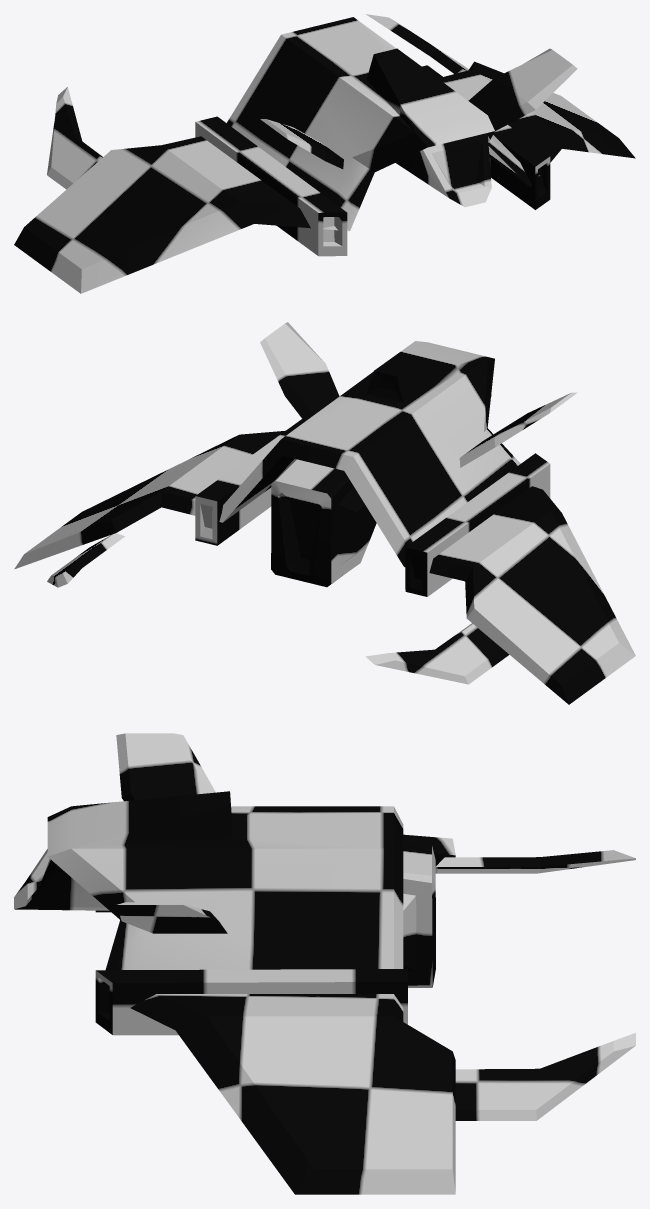
Rendered from cyborg_drone.obj.
The picture shows the model from 3 angles, top to bottom: view 1: azimuth 30°, elevation 25°; view 2: azimuth 150°, elevation 25°; view 3: azimuth 270°, elevation 25°; orthographic projection. The views are drawn at different scales.
Visible parts, largest first — view 1: cyborg_drone_low_poly; view 2: cyborg_drone_low_poly; view 3: cyborg_drone_low_poly.
Boxes of the visible parts, x1,y1,x2,y2 form: cyborg_drone_low_poly: (14,14,635,293); cyborg_drone_low_poly: (14,322,635,704); cyborg_drone_low_poly: (14,733,635,1194).
Bounding box in the file's own units: 21.27 × 7.13 × 17.19.
1 material, 1 textured.
